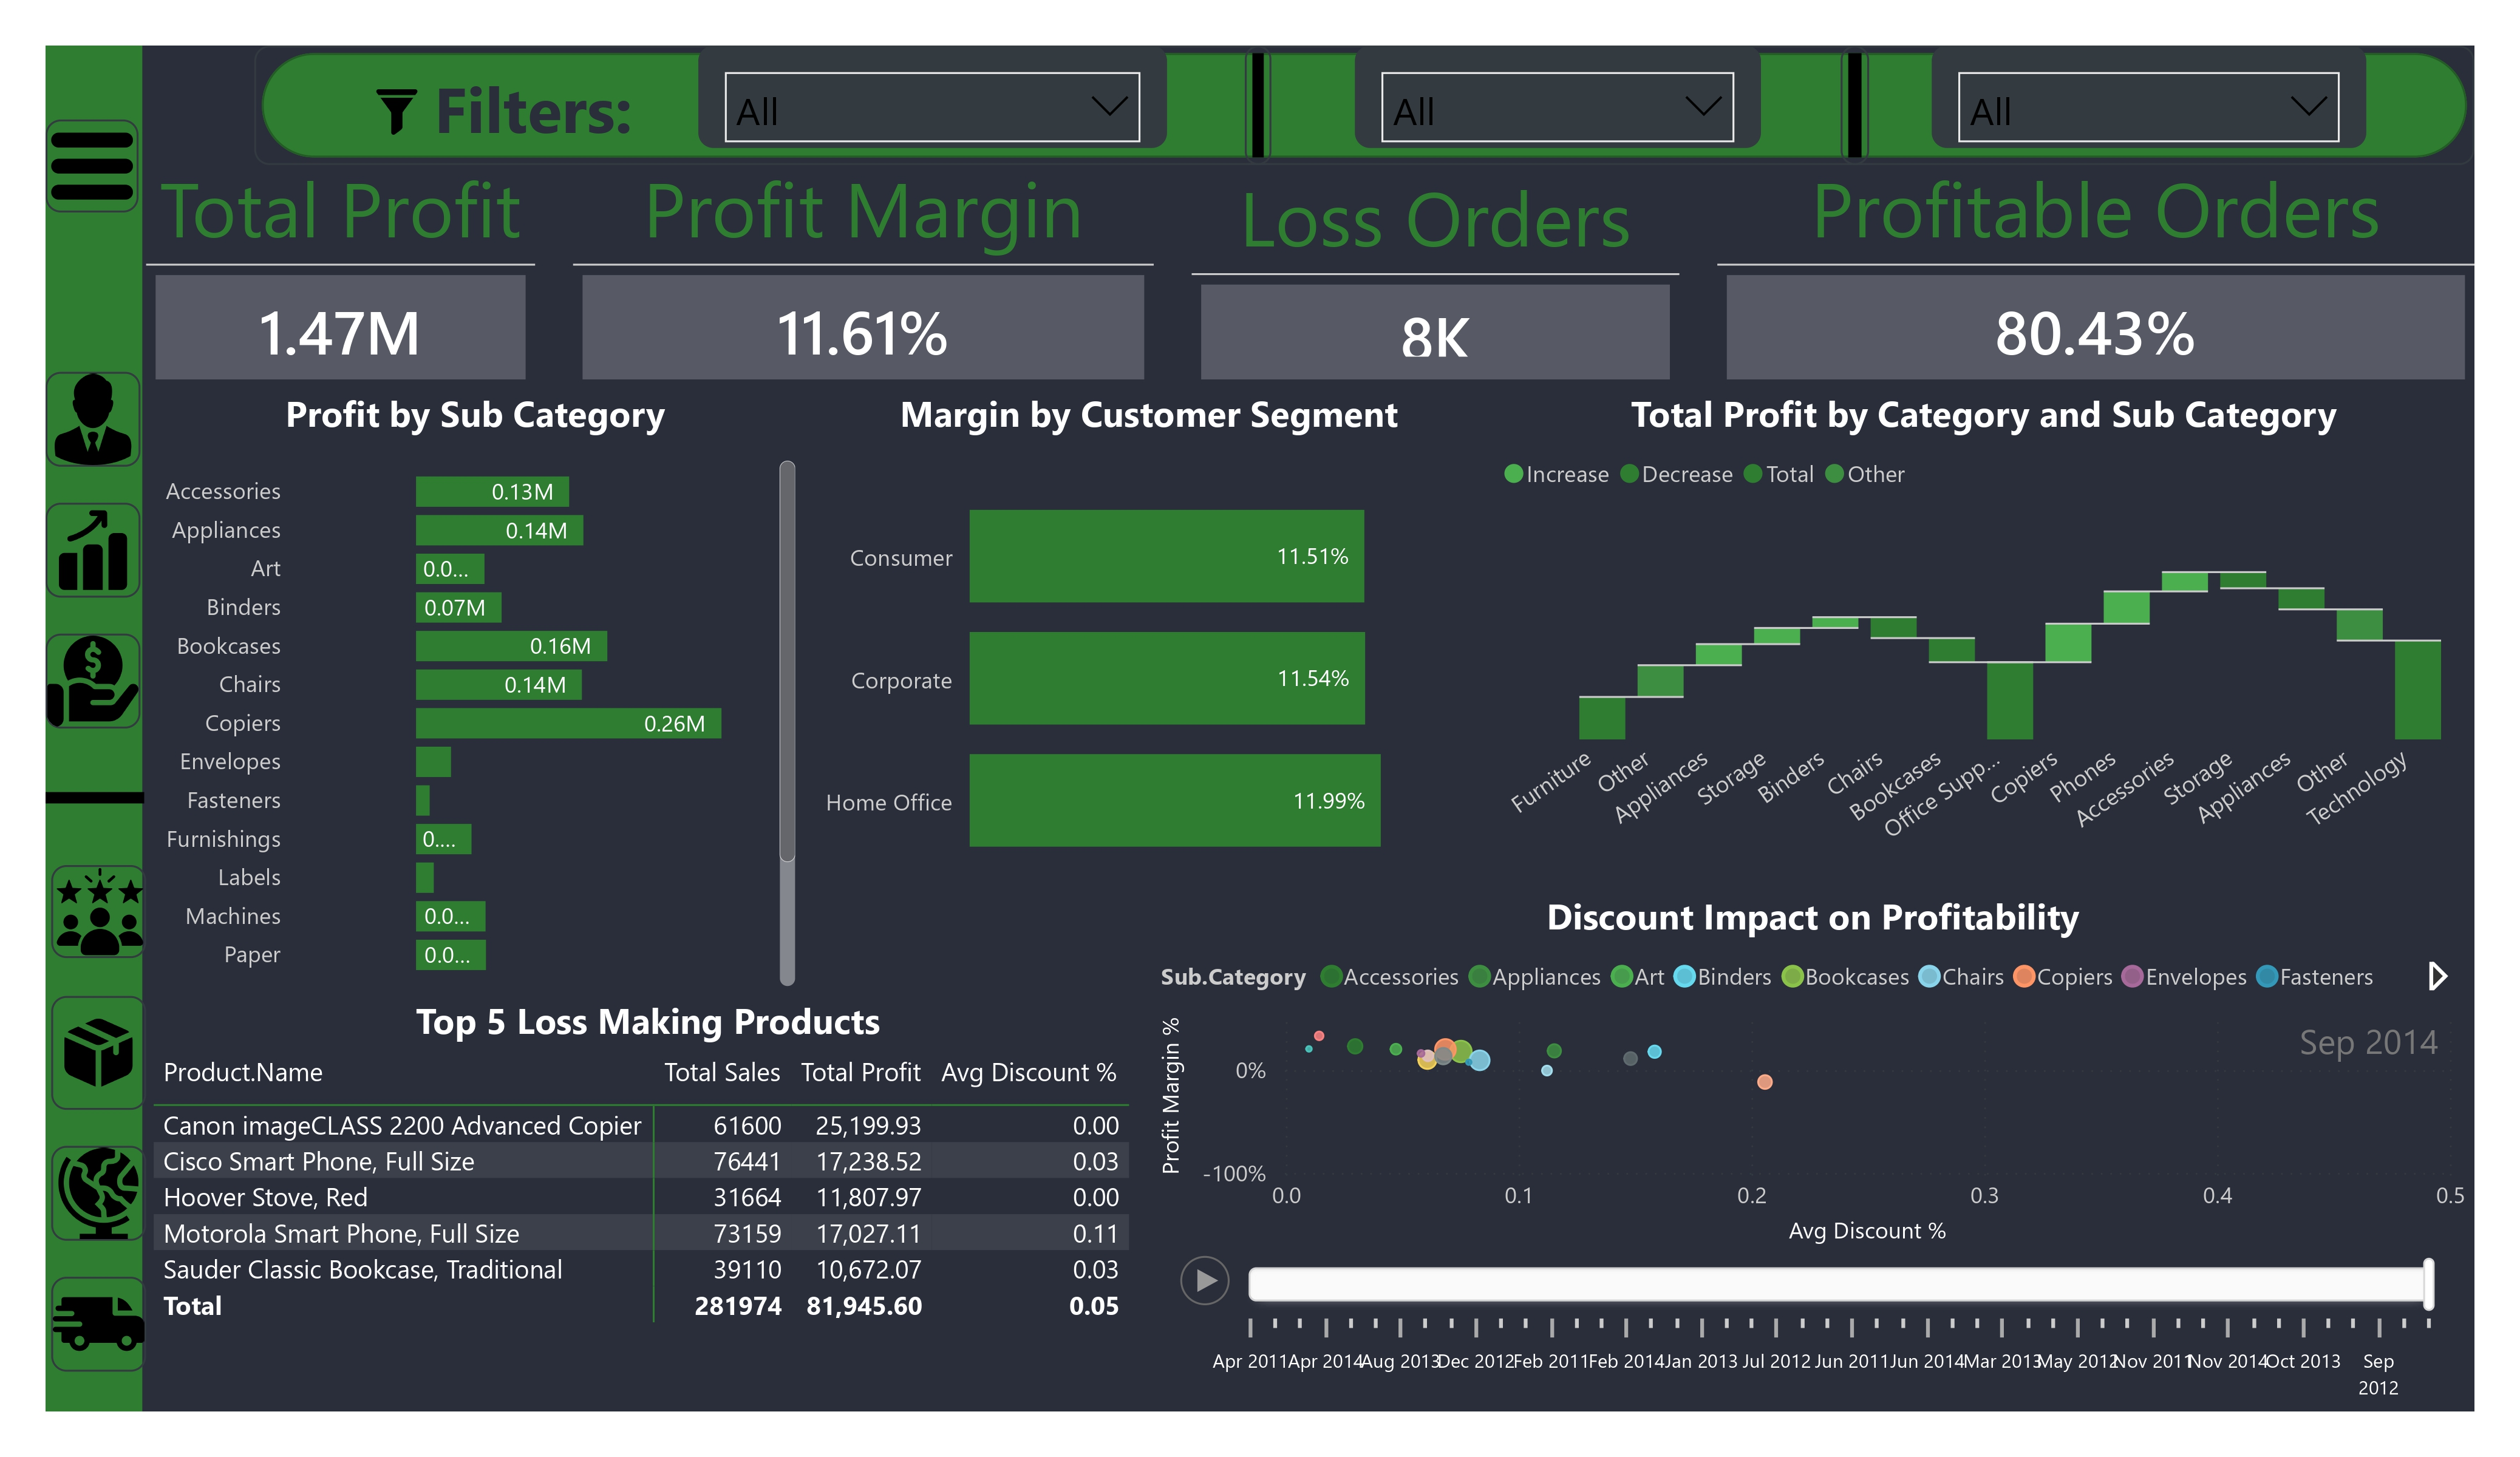

The page's visual inventory and layout, read from the dashboard file:
{"tool":"powerbi","page":{"name":"Profit","canvas":[1280,720],"ordinal":3},"visuals":[{"type":"group","id":"g1","title":"side bar collapsed","box":[0,0,52.7,720.4],"z":0},{"type":"shape","box":[0,0,50.6,720.4],"z":0,"group":"g1"},{"type":"shape","box":[110.3,0,1169.7,62.6],"z":0,"group":"g2"},{"type":"slicer","fields":{"Values":["orders.Market2"]},"box":[344.2,0,247.4,53.6],"z":1000,"group":"g2"},{"type":"image","box":[0,241.4,49.8,49.8],"z":1000,"group":"g1"},{"type":"group","id":"g2","title":"title slicer","box":[110.3,0,1169.7,62.6],"z":2000},{"type":"slicer","fields":{"Values":["DateTable.Year"]},"box":[690,0,214.6,53.6],"z":2000,"group":"g2"},{"type":"image","box":[0,310.5,49.8,49.8],"z":2000,"group":"g1"},{"type":"slicer","fields":{"Values":["orders.Category"]},"box":[993.9,0,229.5,53.6],"z":3000,"group":"g2"},{"type":"image","box":[172.8,15.8,24.5,37.4],"z":3000},{"type":"image","box":[3,431.6,49.8,49.8],"z":3000,"group":"g1"},{"type":"shape","box":[186.3,3,141.6,56.6],"z":4000,"group":"g2"},{"type":"cardVisual","title":"Total Profit","fields":{"Data":["_Measures.Total Profit"]},"box":[53.3,57.6,204.5,123.8],"z":4000},{"type":"image","box":[3,500.6,49.8,60],"z":4000,"group":"g1"},{"type":"shape","box":[631.8,0,14.9,62.6],"z":5000,"group":"g2"},{"type":"cardVisual","title":"Profit Margin","fields":{"Data":["_Measures.Profit Margin %"]},"box":[278.4,57.6,305.3,123.8],"z":5000},{"type":"image","box":[3,579.9,49.8,49.8],"z":5000,"group":"g1"},{"type":"shape","box":[946.2,0,14.9,62.6],"z":6000,"group":"g2"},{"type":"image","box":[0,38.7,49.1,49.1],"z":6000,"group":"g1"},{"type":"cardVisual","title":"Loss Orders ","fields":{"Data":["_Measures.Loss Order Count"]},"box":[604.3,63.4,256.3,118.1],"z":6000},{"type":"cardVisual","title":"Profitable Orders","fields":{"Data":["_Measures.Profitable Order %"]},"box":[881.1,57.6,398.9,123.8],"z":7000},{"type":"image","box":[0,172.4,49.8,49.8],"z":7000,"group":"g1"},{"type":"barChart","title":"Profit by Sub Category","fields":{"Category":["orders.Sub.Category"],"Y":["_Measures.Total Profit"]},"box":[53.3,181.4,347,319.7],"z":8000},{"type":"shape","box":[0,385.5,52.1,22.3],"z":8000,"group":"g1"},{"type":"barChart","title":"Margin by Customer Segment","fields":{"Category":["orders.Segment"],"Y":["_Measures.Profit Margin %"]},"box":[400.3,181.4,362.9,275],"z":9000},{"type":"image","box":[3,648.9,49.8,49.8],"z":9000,"group":"g1"},{"type":"waterfallChart","title":"Total Profit by Category and Sub Category","fields":{"Category":["orders.Category"],"Breakdown":["orders.Sub.Category"],"Y":["_Measures.Total Profit"]},"box":[763.2,181.4,517,250.6],"z":10000},{"type":"pivotTable","title":"Top 5 Loss Making Products","fields":{"Values":["_Measures.Total Sales","_Measures.Total Profit","_Measures.Avg Discount %"],"Rows":["orders.Product.Name"]},"box":[51.8,501.1,531.4,218.9],"z":11000},{"type":"scatterChart","title":"Discount Impact on Profitability","fields":{"X":["_Measures.Avg Discount %"],"Y":["_Measures.Profit Margin %"],"Size":["_Measures.Total Sales"],"Play":["DateTable.Month-Year"],"Series":["orders.Sub.Category"]},"box":[583.2,446.4,697,270.7],"z":12000}]}

Visuals, with their boxes on the page's 1280x720 design canvas (x1, y1, x2, y2). These are canvas units, not pixel positions in the 2520x1457 screenshot, which may show the page scaled, cropped or inside an application window:
"side bar collapsed" group: [left=0, top=0, right=53, bottom=720]
shape: [left=0, top=0, right=51, bottom=720]
shape: [left=110, top=0, right=1280, bottom=63]
slicer - orders.Market2: [left=344, top=0, right=592, bottom=54]
image: [left=0, top=241, right=50, bottom=291]
"title slicer" group: [left=110, top=0, right=1280, bottom=63]
slicer - DateTable.Year: [left=690, top=0, right=905, bottom=54]
image: [left=0, top=310, right=50, bottom=360]
slicer - orders.Category: [left=994, top=0, right=1223, bottom=54]
image: [left=173, top=16, right=197, bottom=53]
image: [left=3, top=432, right=53, bottom=481]
shape: [left=186, top=3, right=328, bottom=60]
"Total Profit" cardVisual: [left=53, top=58, right=258, bottom=181]
image: [left=3, top=501, right=53, bottom=561]
shape: [left=632, top=0, right=647, bottom=63]
"Profit Margin" cardVisual: [left=278, top=58, right=584, bottom=181]
image: [left=3, top=580, right=53, bottom=630]
shape: [left=946, top=0, right=961, bottom=63]
image: [left=0, top=39, right=49, bottom=88]
"Loss Orders " cardVisual: [left=604, top=63, right=861, bottom=182]
"Profitable Orders" cardVisual: [left=881, top=58, right=1280, bottom=181]
image: [left=0, top=172, right=50, bottom=222]
"Profit by Sub Category" barChart: [left=53, top=181, right=400, bottom=501]
shape: [left=0, top=386, right=52, bottom=408]
"Margin by Customer Segment" barChart: [left=400, top=181, right=763, bottom=456]
image: [left=3, top=649, right=53, bottom=699]
"Total Profit by Category and Sub Category" waterfallChart: [left=763, top=181, right=1280, bottom=432]
"Top 5 Loss Making Products" pivotTable: [left=52, top=501, right=583, bottom=720]
"Discount Impact on Profitability" scatterChart: [left=583, top=446, right=1280, bottom=717]
